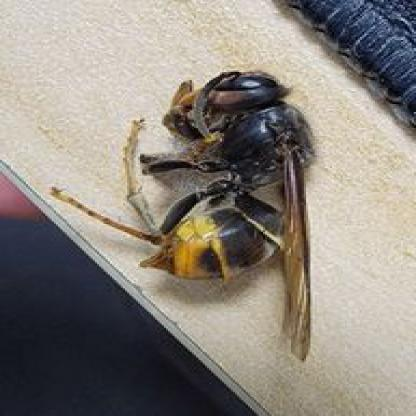Asian Hornet: (45, 65, 325, 364)
